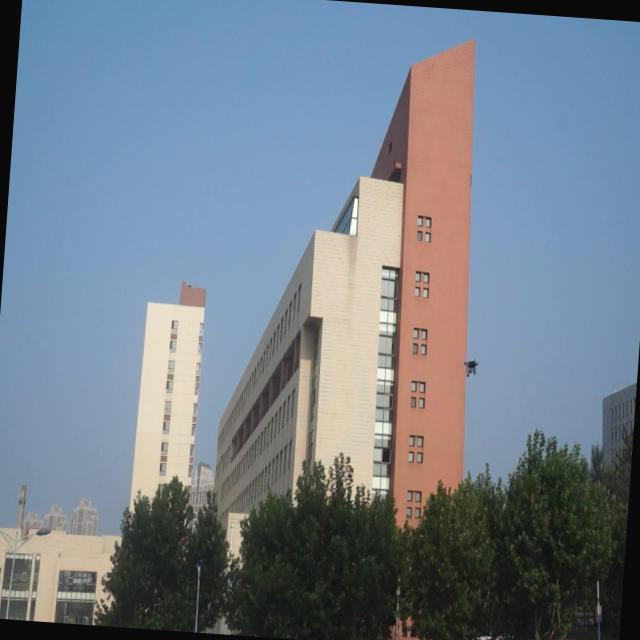drone: (461, 349, 482, 388)
